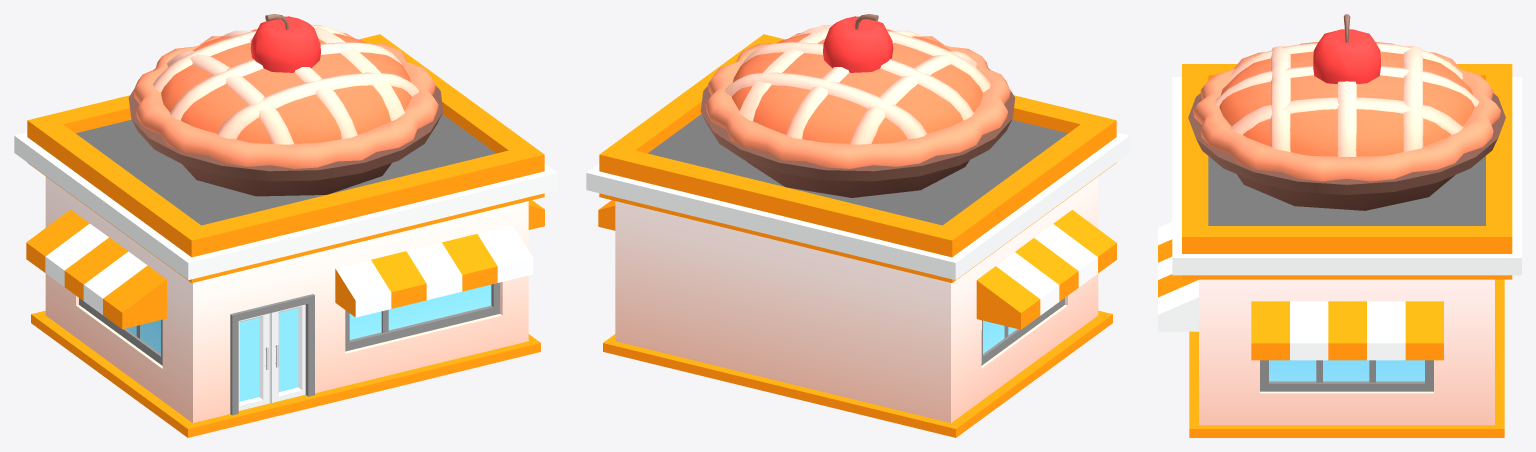
Rendered from city2-building-snack-02.glb.
3 renders of one model, left to right at view 1: azimuth 30°, elevation 25°; view 2: azimuth 150°, elevation 25°; view 3: azimuth 270°, elevation 25°, orthographic.
Visible parts, largest first — view 1: Building_Snack_02; view 2: Building_Snack_02; view 3: Building_Snack_02.
Boxes of the visible parts, x1,y1,x2,y2 form: Building_Snack_02: (14, 14, 557, 437); Building_Snack_02: (586, 14, 1129, 437); Building_Snack_02: (1158, 14, 1521, 437).
Bounding box in the file's own units: 10.18 × 7.52 × 7.55.
1 material, 1 textured.
